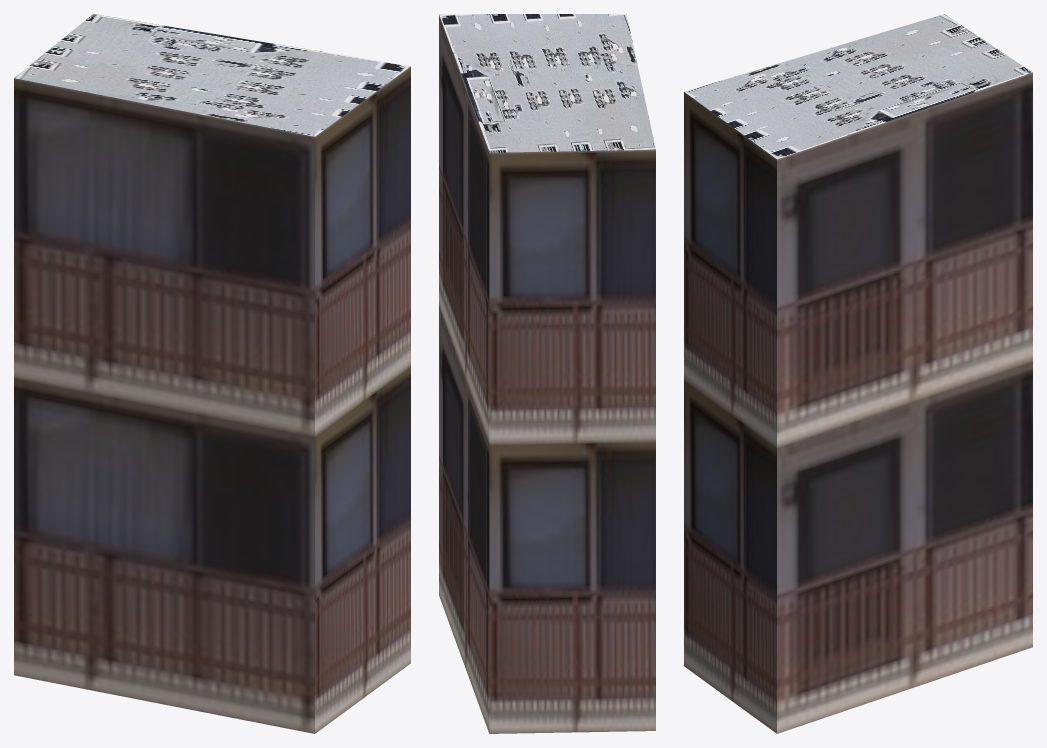
Rendered from ResTex__4756.fbx.
3 renders of one model, left to right at view 1: azimuth 30°, elevation 25°; view 2: azimuth 150°, elevation 25°; view 3: azimuth 270°, elevation 25°, orthographic. The views are drawn at different scales.
Visible parts, largest first — view 1: CityEngineMaterial_6_m, CityEngineMaterial_4_m; view 2: CityEngineMaterial_6_m, CityEngineMaterial_4_m; view 3: CityEngineMaterial_6_m, CityEngineMaterial_4_m.
Part boxes in pixels (bbox=[...]): CityEngineMaterial_6_m: bbox=[14, 66, 410, 733]; CityEngineMaterial_4_m: bbox=[14, 14, 410, 136]; CityEngineMaterial_6_m: bbox=[439, 15, 655, 733]; CityEngineMaterial_4_m: bbox=[439, 14, 655, 152]; CityEngineMaterial_6_m: bbox=[684, 73, 1032, 733]; CityEngineMaterial_4_m: bbox=[684, 14, 1032, 159].
Size of the model in its own units: 3.26 by 6 by 3.3.
Materials: 2 (2 with a texture image).
